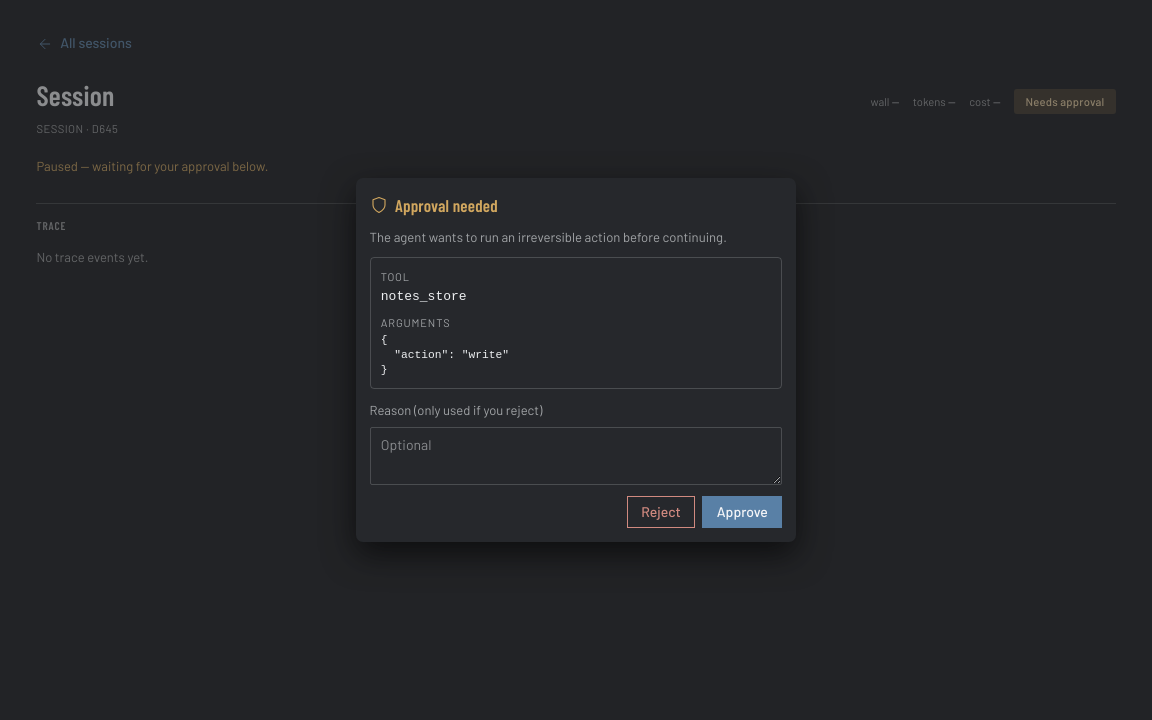
it: SessionPage › shows an error in the approval modal when the decision request fails, without closing it
The image size is (1152, 720).
Check: the dialog is shown, box [356, 178, 796, 542]
Step 1. Click the button "Approve" → coordinates (742, 512), box [702, 496, 782, 528]
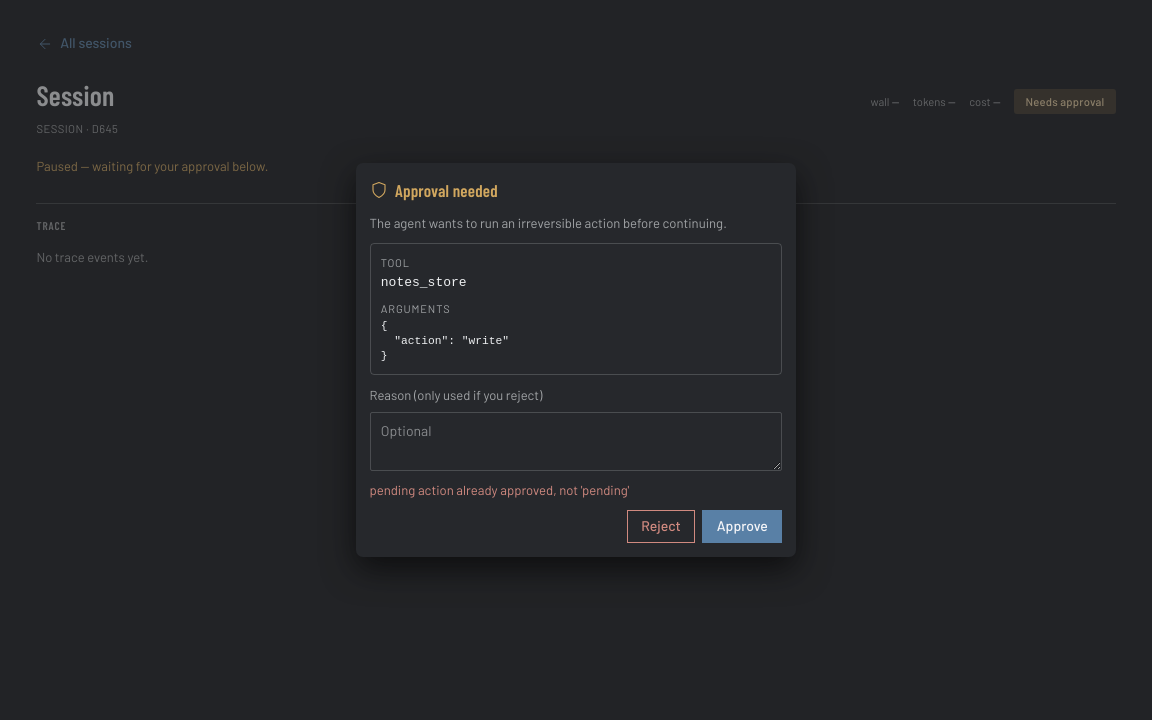
Check: the dialog is shown, box [356, 164, 796, 557]
Check: the message shows "already approved", box [370, 482, 629, 498]
